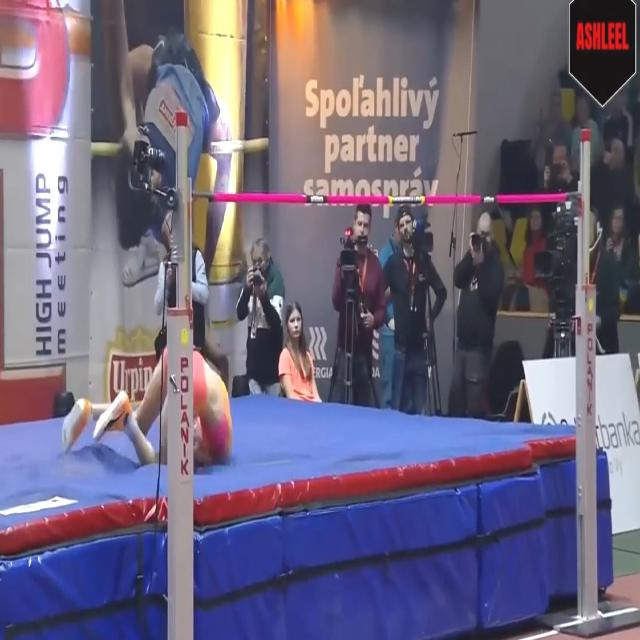land: (61, 347, 232, 468)
